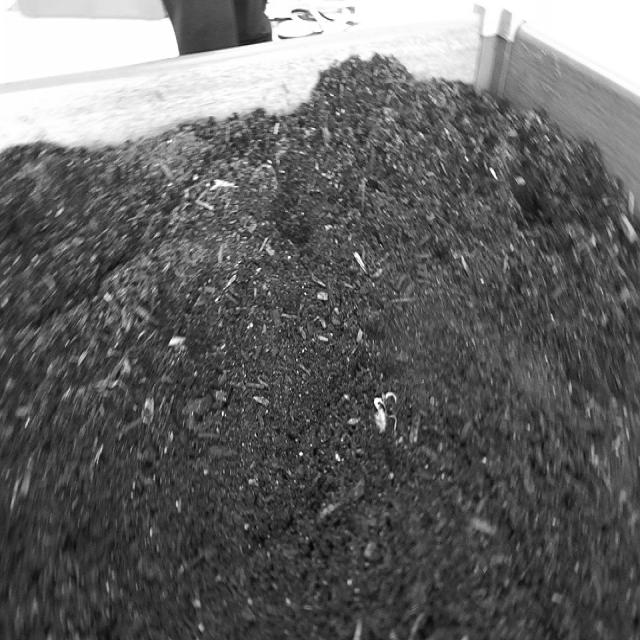Unhealthy: (372, 388, 403, 438)
